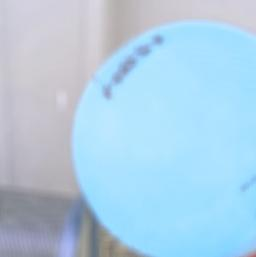algae: (65, 14, 256, 257)
